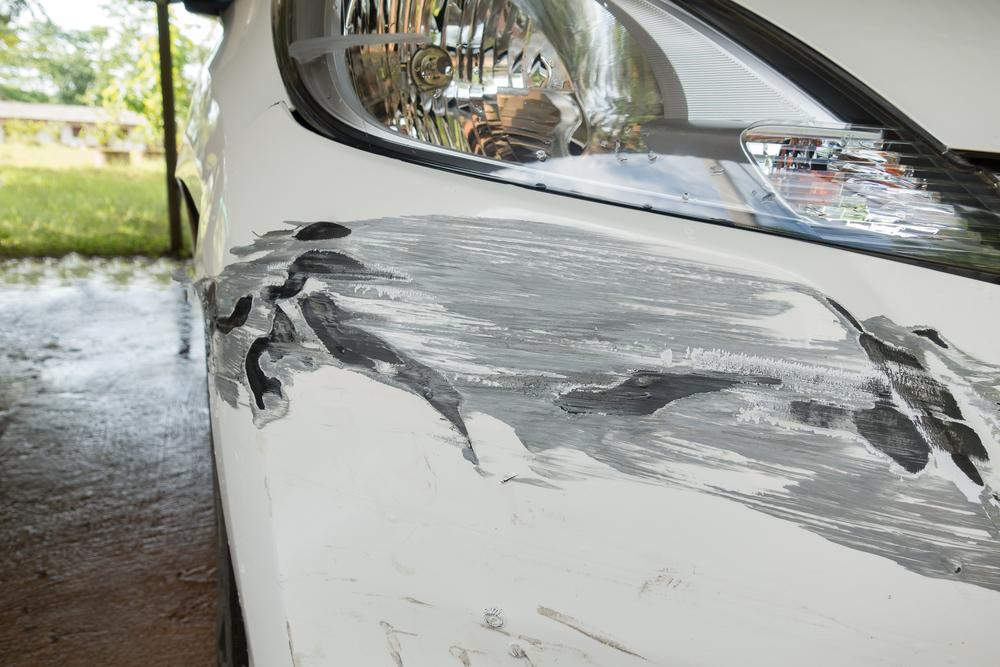scratch: (192, 214, 1000, 595), (369, 585, 681, 667)
